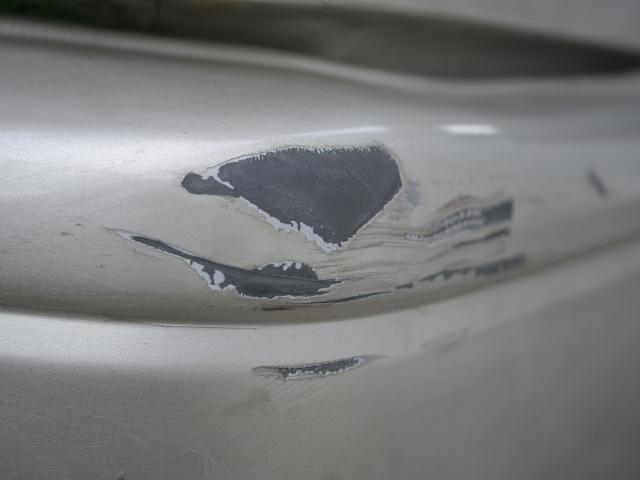scratch: (99, 137, 535, 391)
